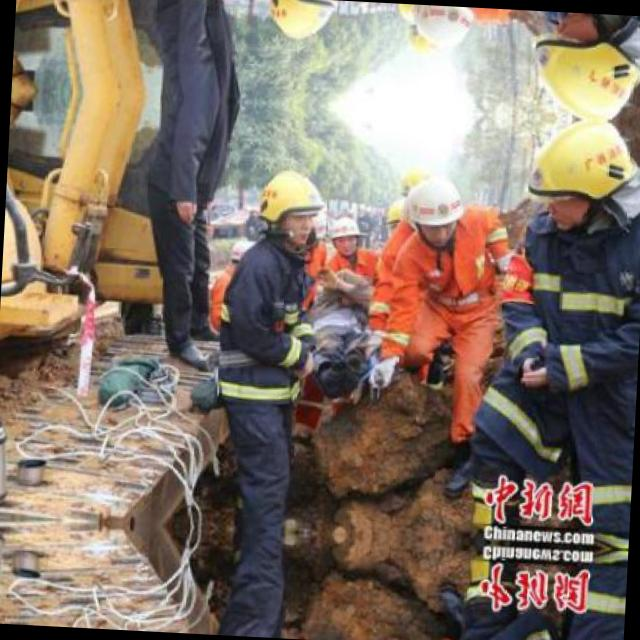helmet: (520, 119, 640, 239), (526, 10, 640, 121), (253, 166, 331, 250), (400, 171, 468, 247), (263, 0, 341, 45), (410, 4, 478, 54), (324, 212, 365, 254)
